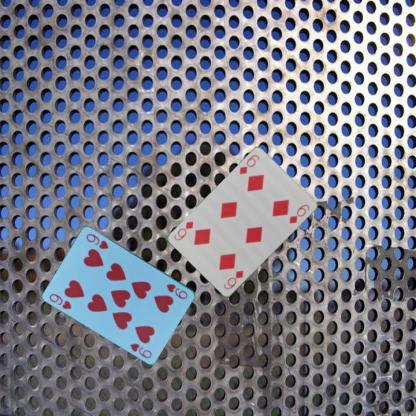6d: (221, 268, 245, 291), (237, 153, 260, 176)
9h: (47, 291, 73, 310), (164, 282, 189, 300)
